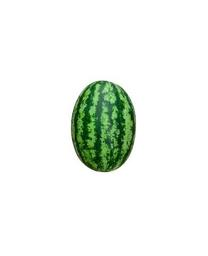watermelon: (71, 78, 136, 178)
